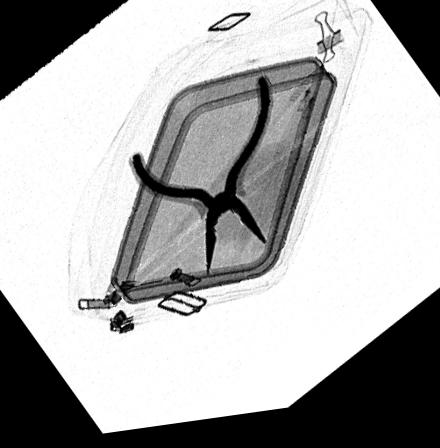Pliers: (130, 79, 271, 285)
